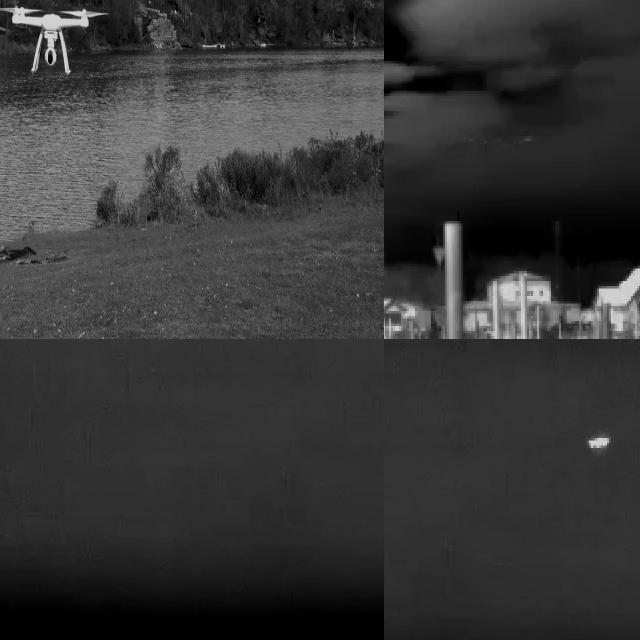0: (511, 128, 537, 156)
1: (575, 430, 611, 458)
drone: (8, 4, 94, 76)
